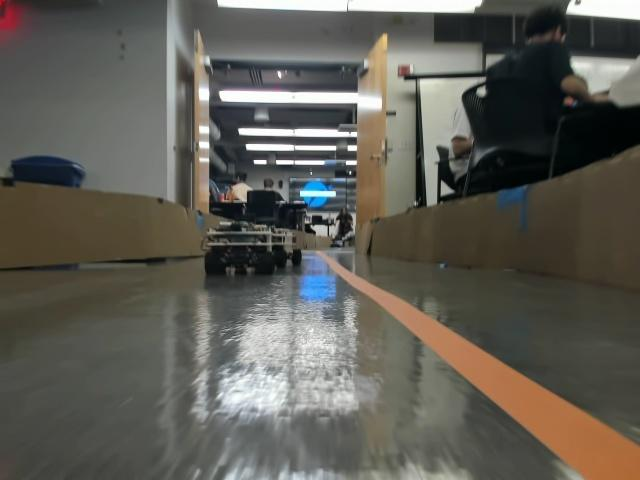Car: (204, 211, 274, 276)
